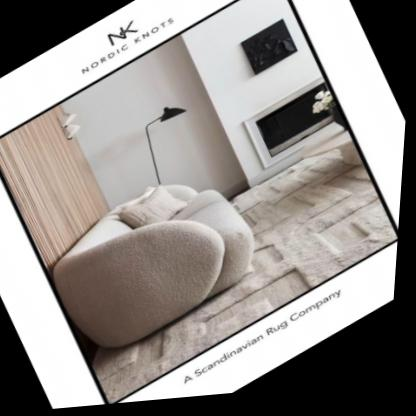Curtains: (0, 106, 114, 276)
Sofa: (56, 187, 258, 351)
